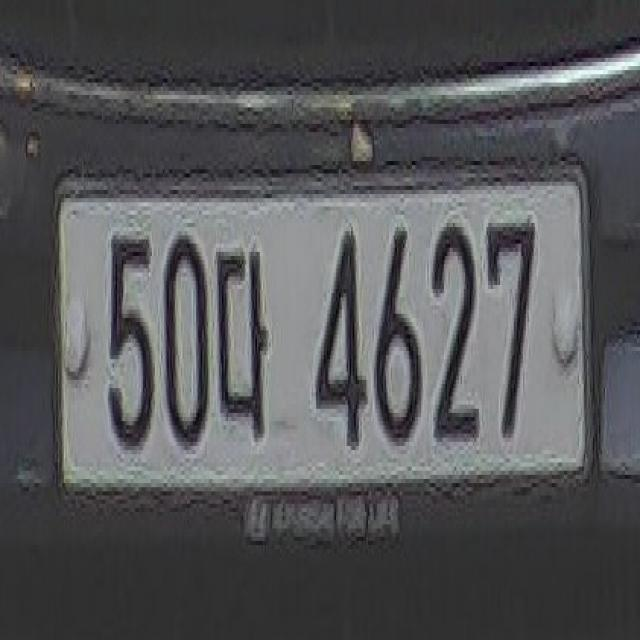0: (162, 225, 210, 460)
2: (432, 215, 482, 450)
4: (316, 225, 369, 454)
5: (101, 217, 157, 465)
6: (372, 212, 424, 457)
7: (483, 214, 539, 454)
da: (216, 229, 276, 459)
license_plate: (44, 158, 598, 494)
